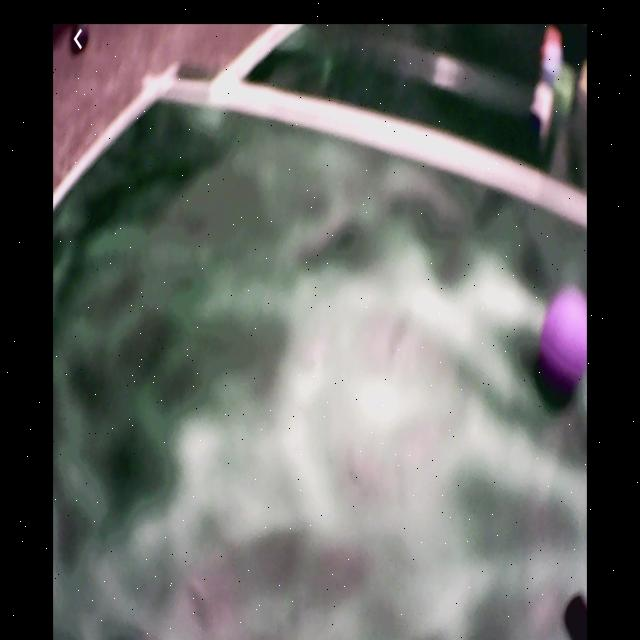ball: (540, 290, 588, 383)
